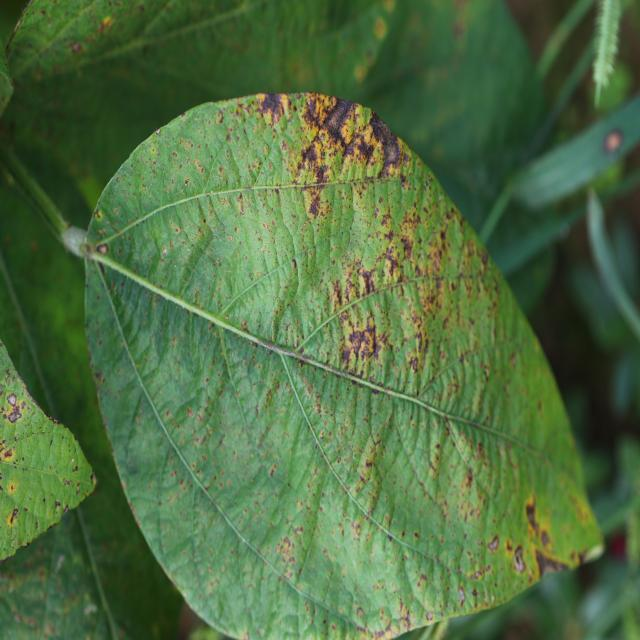Bacterial_Blight: (364, 109, 398, 171), (343, 318, 377, 364), (256, 92, 292, 124), (323, 100, 347, 144), (357, 265, 379, 295), (525, 498, 538, 530), (307, 195, 322, 218), (400, 236, 414, 259)
Soybean: (86, 93, 602, 638)
